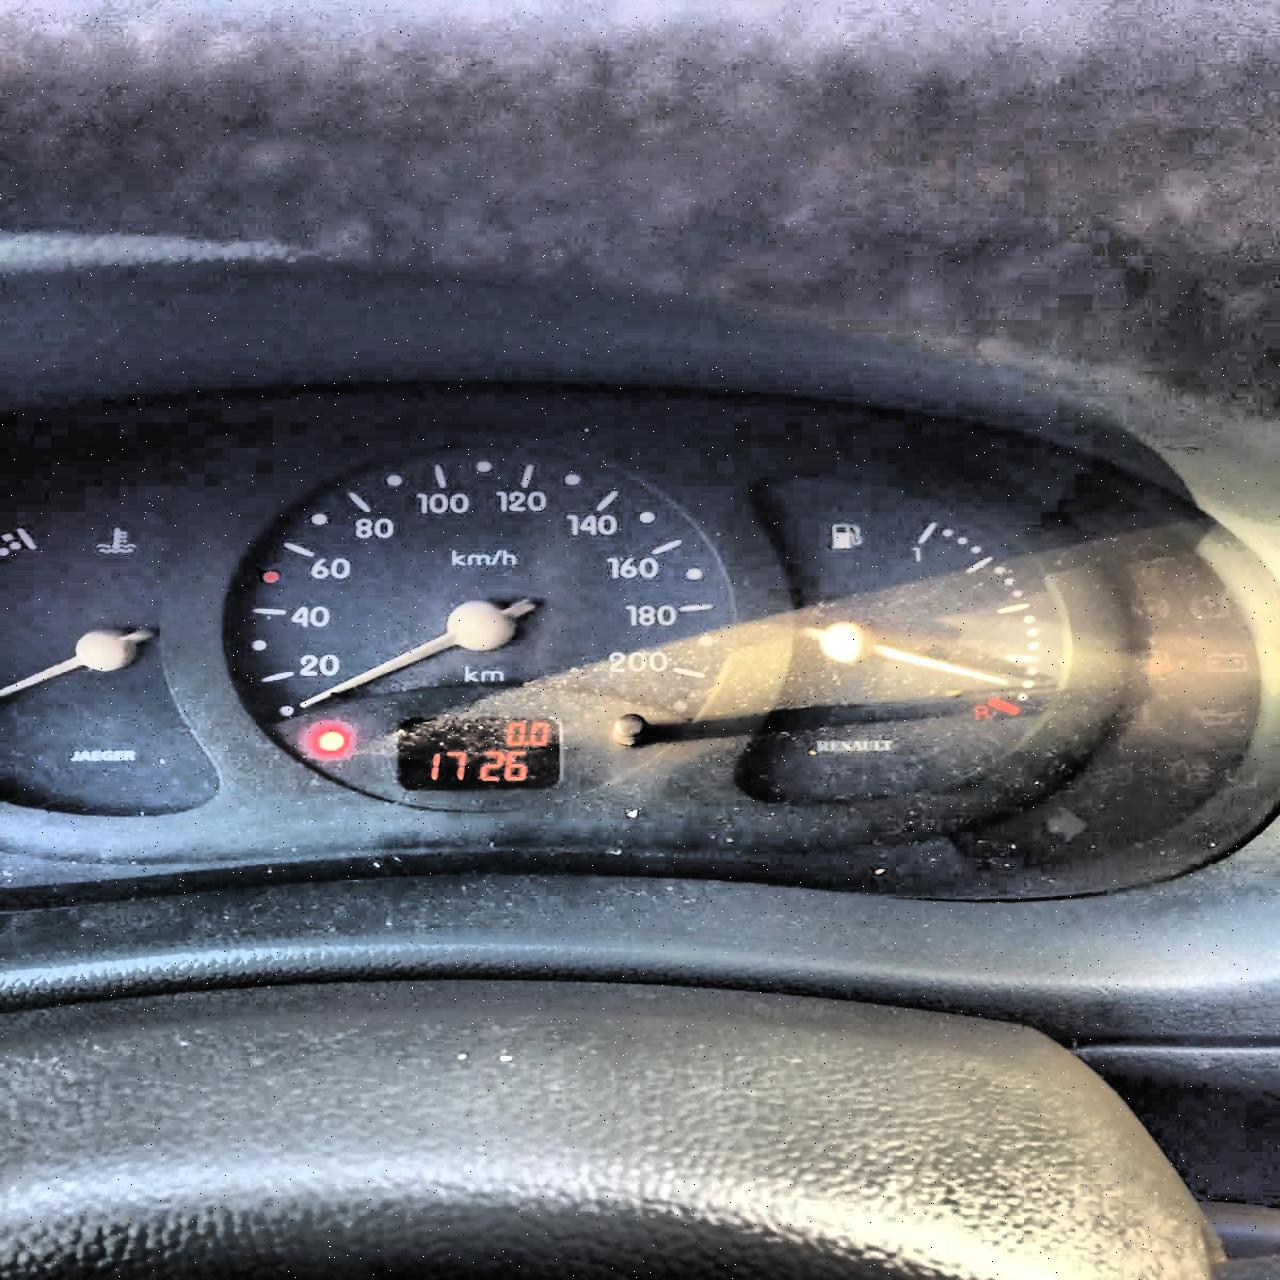-: (523, 741, 530, 745)
0: (529, 722, 547, 744), (506, 722, 524, 744)
1: (430, 753, 440, 779)
2: (478, 750, 502, 779)
6: (503, 750, 526, 779)
7: (444, 750, 465, 779)
odometer: (393, 714, 564, 792)
